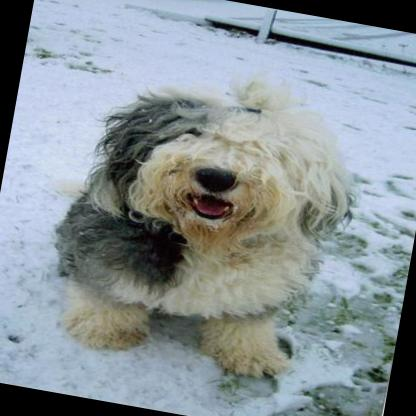Old_English_sheepdog: (43, 52, 367, 392)
